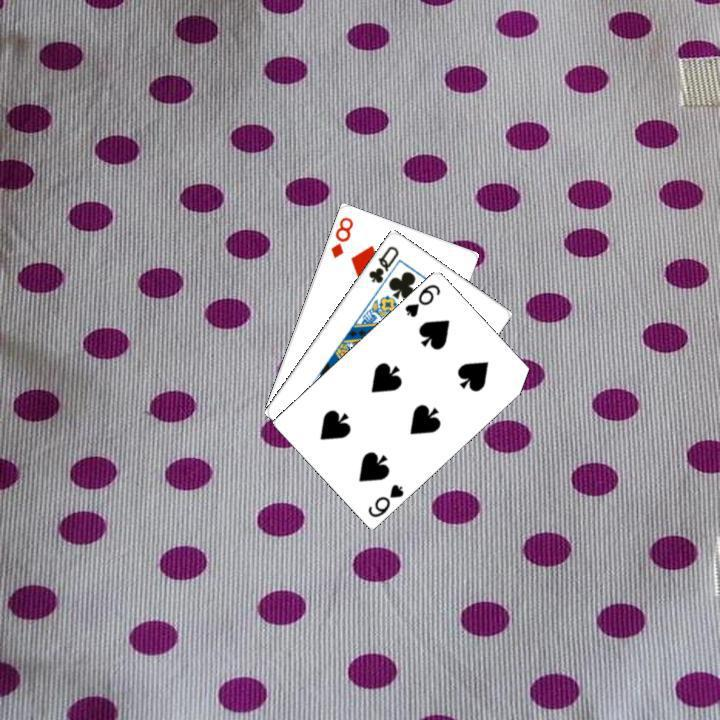6: (363, 479, 406, 519), (400, 279, 442, 319)
8: (326, 212, 355, 260)
Q: (364, 241, 401, 285)
